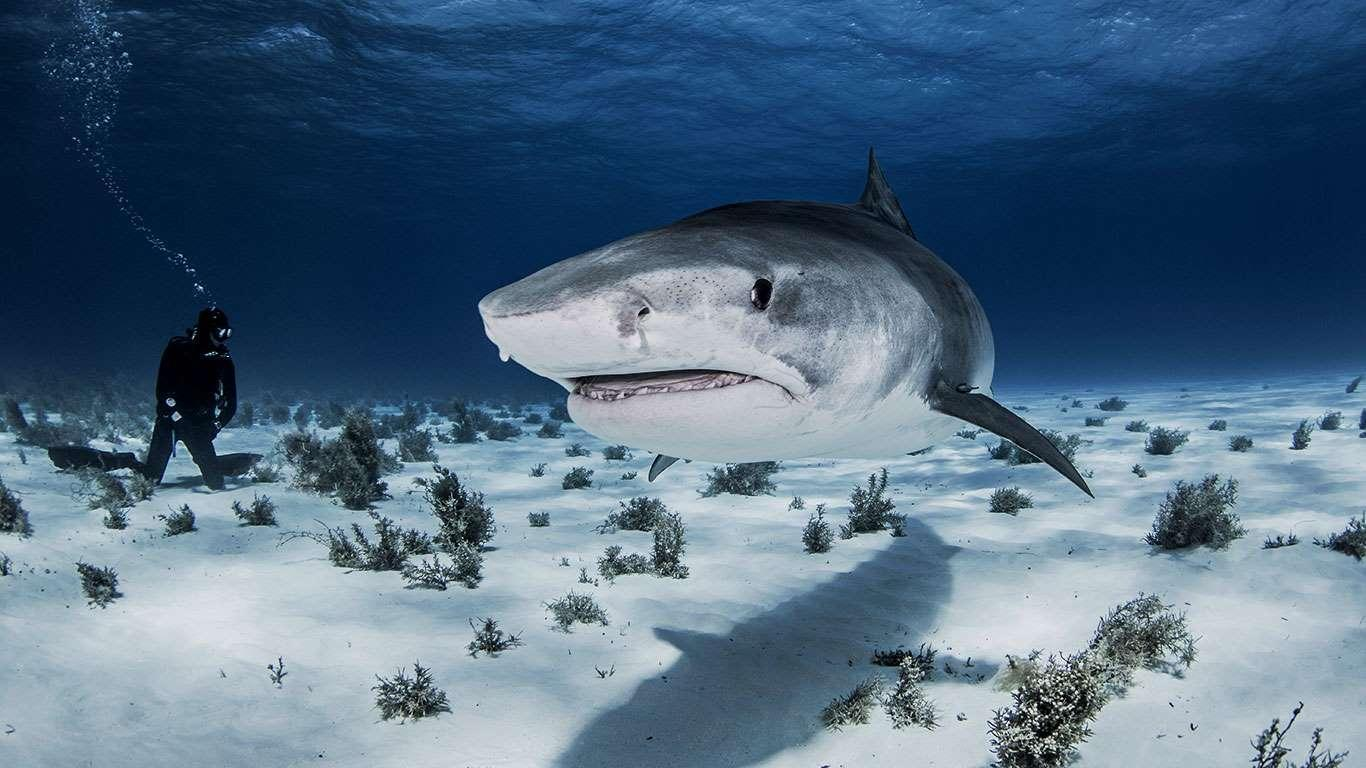fish: (458, 142, 1102, 498)
